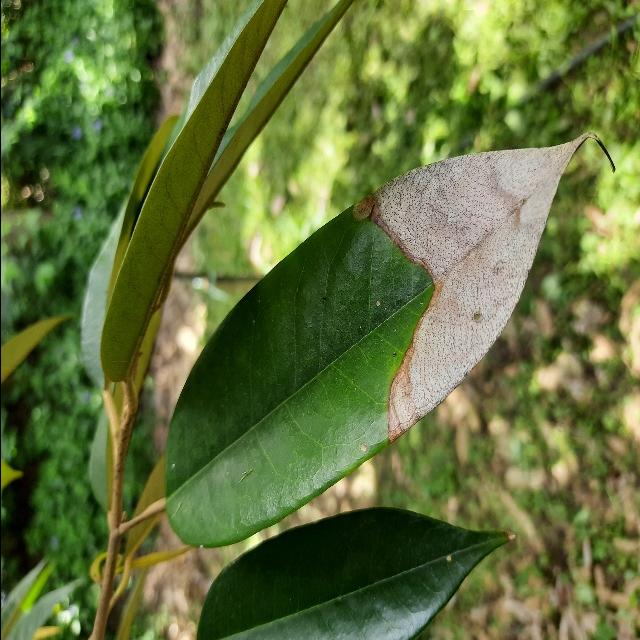Leaf Blight: (154, 125, 597, 561)
